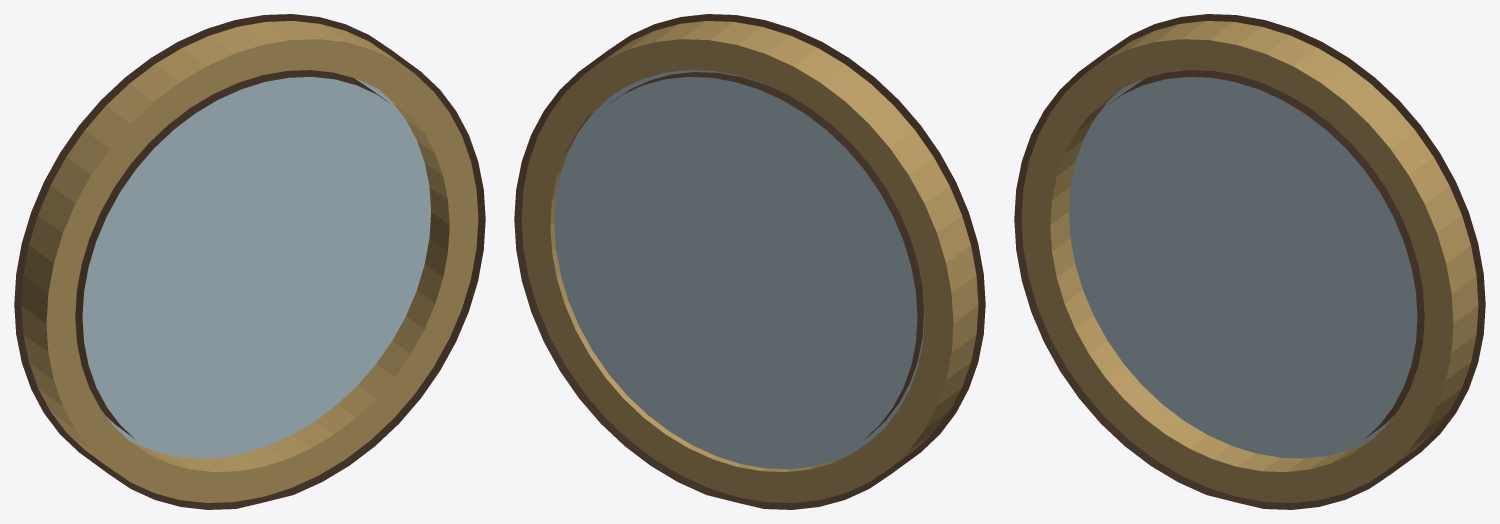
File: observatory-window.glb
3 renders of one model, left to right at view 1: azimuth 30°, elevation 25°; view 2: azimuth 150°, elevation 25°; view 3: azimuth 330°, elevation 25°, orthographic.
Visible parts, largest first — view 1: observatory-window, observatory-window-outline; view 2: observatory-window, observatory-window-outline; view 3: observatory-window, observatory-window-outline.
Part boxes in pixels (bbox=[...]): observatory-window: bbox=[21, 21, 478, 502]; observatory-window-outline: bbox=[14, 14, 485, 509]; observatory-window: bbox=[521, 21, 978, 502]; observatory-window-outline: bbox=[514, 14, 985, 509]; observatory-window: bbox=[1021, 21, 1478, 502]; observatory-window-outline: bbox=[1014, 14, 1485, 509].
Size of the model in its own units: 1.23 by 1.22 by 0.146.
